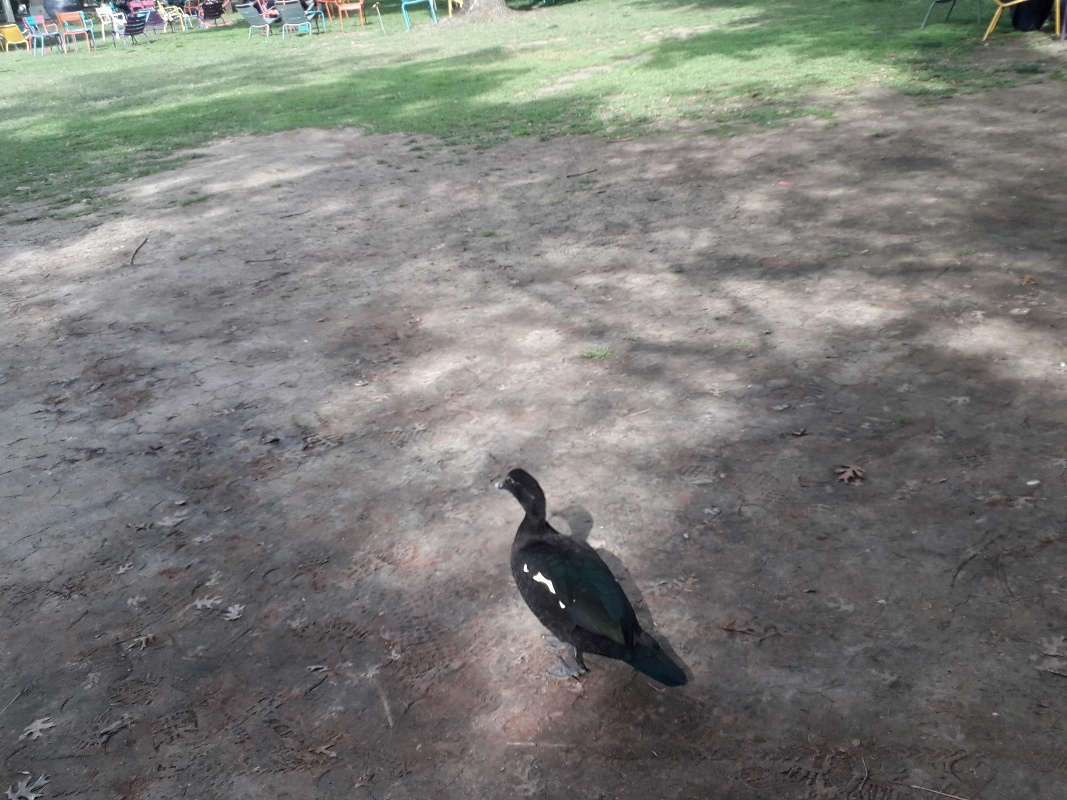pato: (498, 462, 677, 694)
